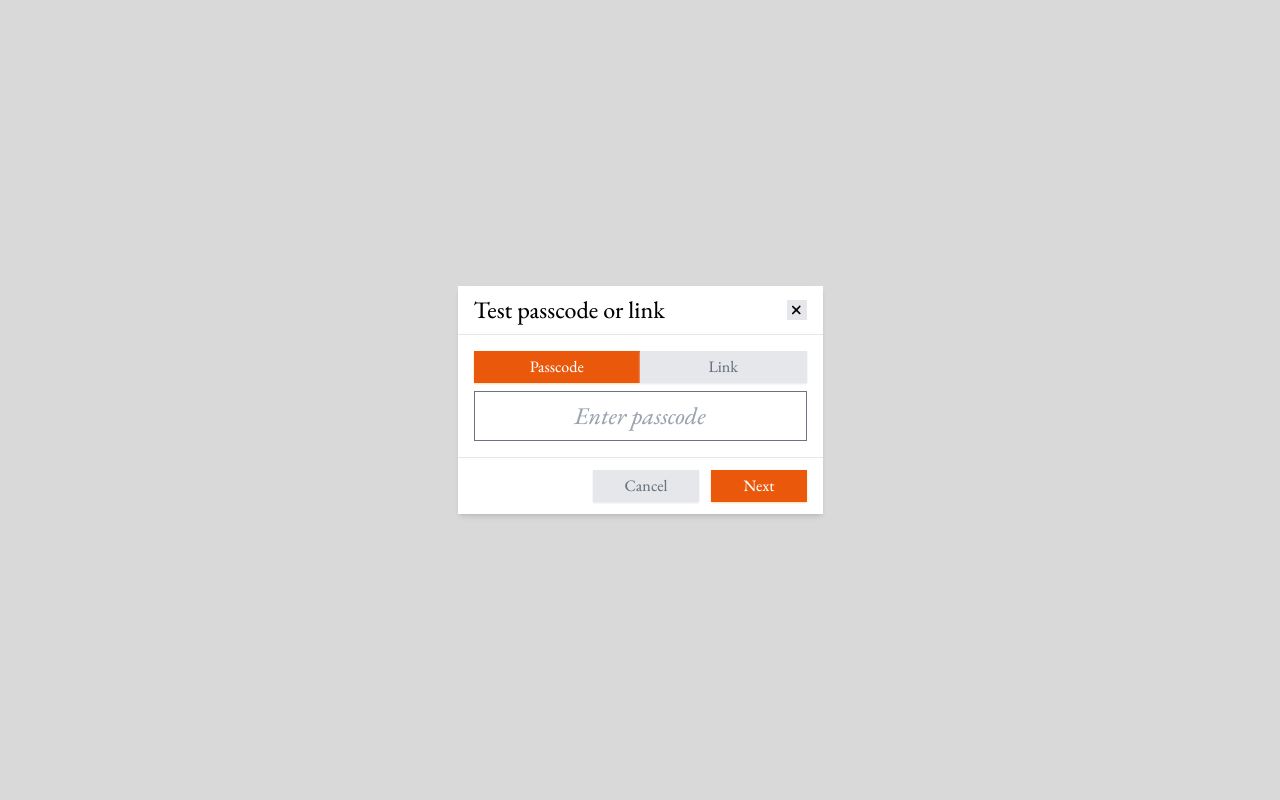
it: PasscodeLink › should handle switching between Passcode and Link
The width and height of the screenshot is (1280, 800).
Click the button "Link". click: (723, 367)
box: [640, 351, 806, 383]
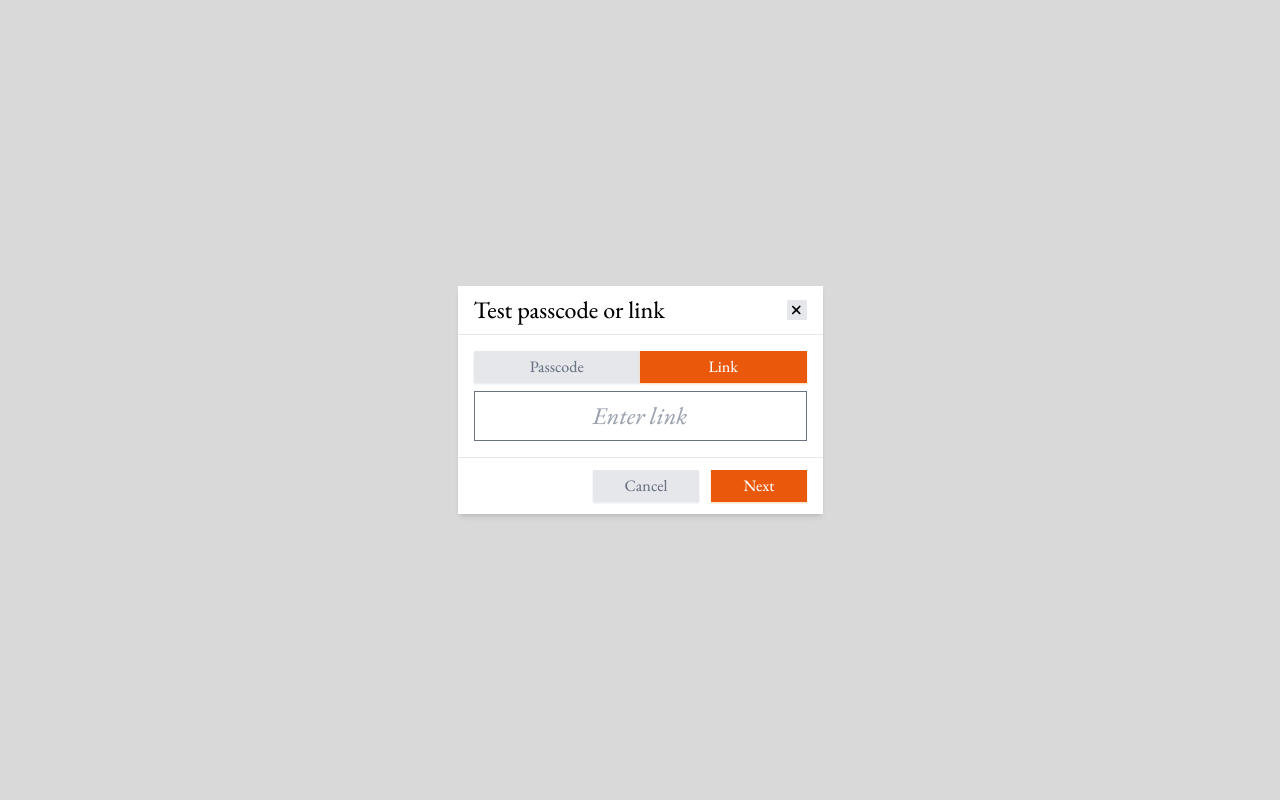
Expected: the field with placeholder "Enter passcode" is not shown
Result: the field with placeholder "Enter link" is shown at [474, 391, 806, 441]
Click the button "Passcode". click: (557, 367)
box: [474, 351, 640, 383]
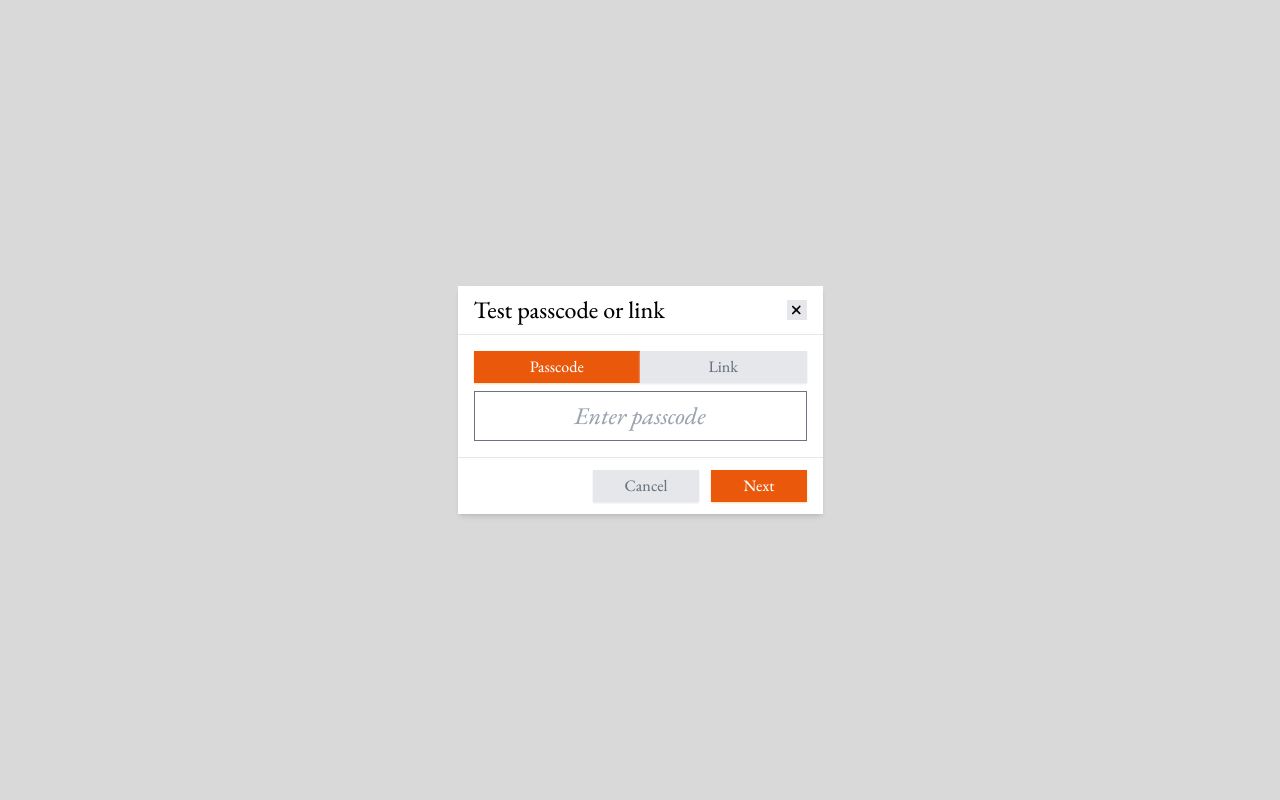
Result: the field with placeholder "Enter passcode" is shown at [474, 391, 806, 441]
